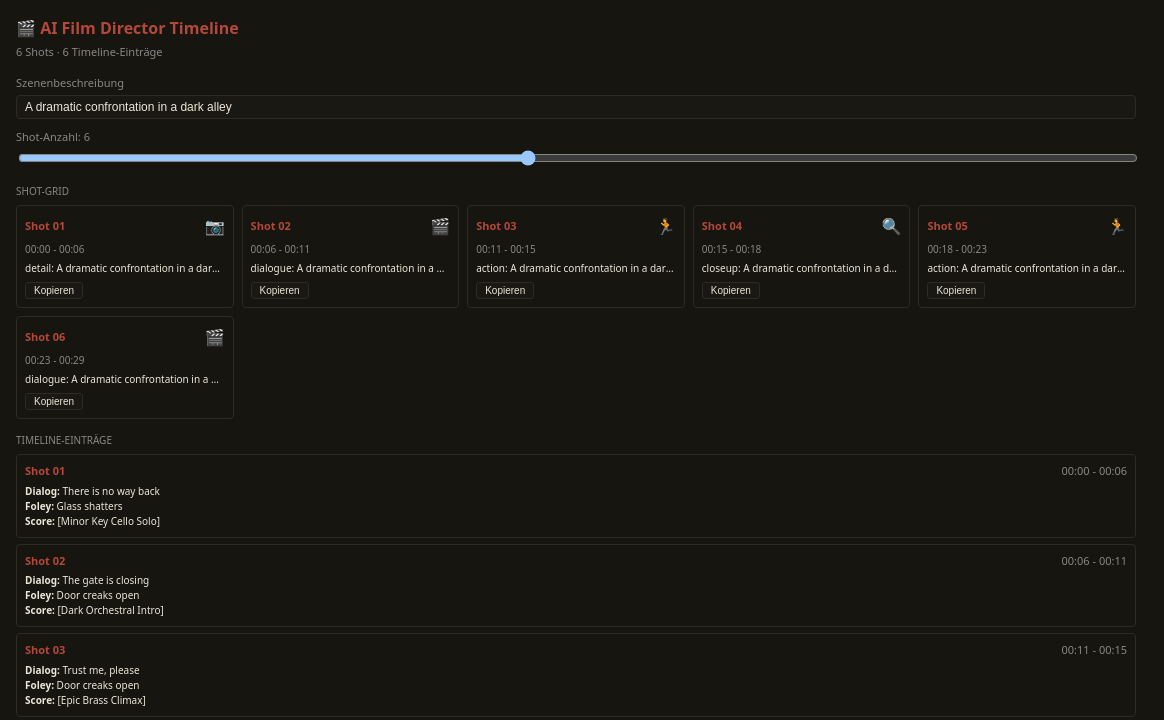
AiFilmDirectorTimelineModal › reagiert auf Szenen-Eingabe
Step 1. Replace the text in the field with test id "timeline-scene-input" with "A car chase" → (576, 107), box x1=16 y1=95 x2=1136 y2=119
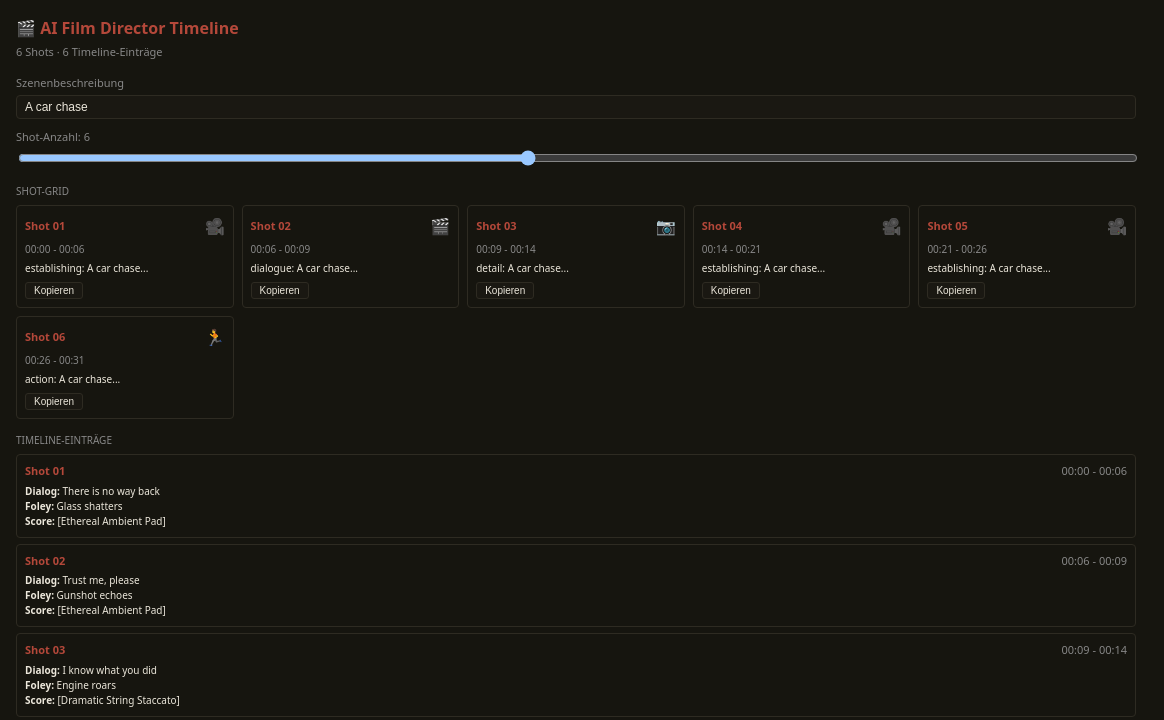
expect the element with test id "timeline-shot-1" shows "car chase": met, box x1=25 y1=261 x2=148 y2=275
